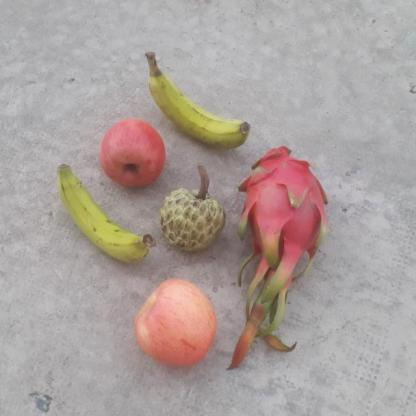annona: (160, 185, 225, 257)
apple: (137, 272, 223, 366), (92, 115, 172, 187)
banana: (54, 163, 150, 265), (151, 66, 248, 154)
pitaya: (236, 145, 328, 269)
